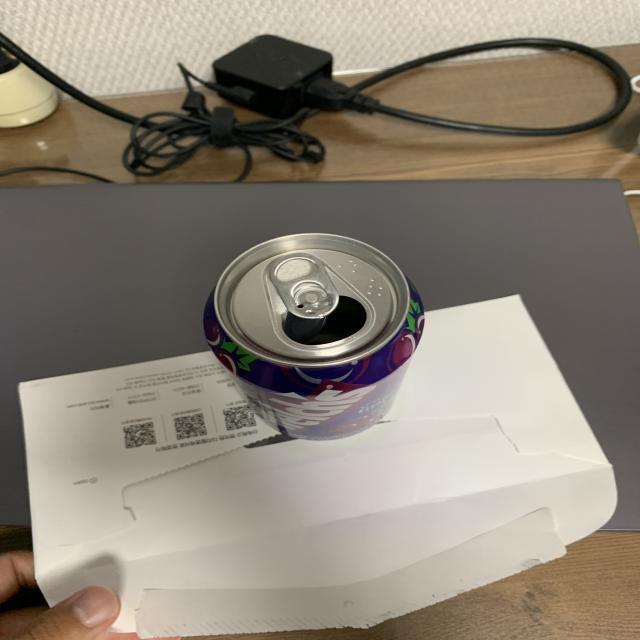metal-can: (198, 230, 423, 446)
